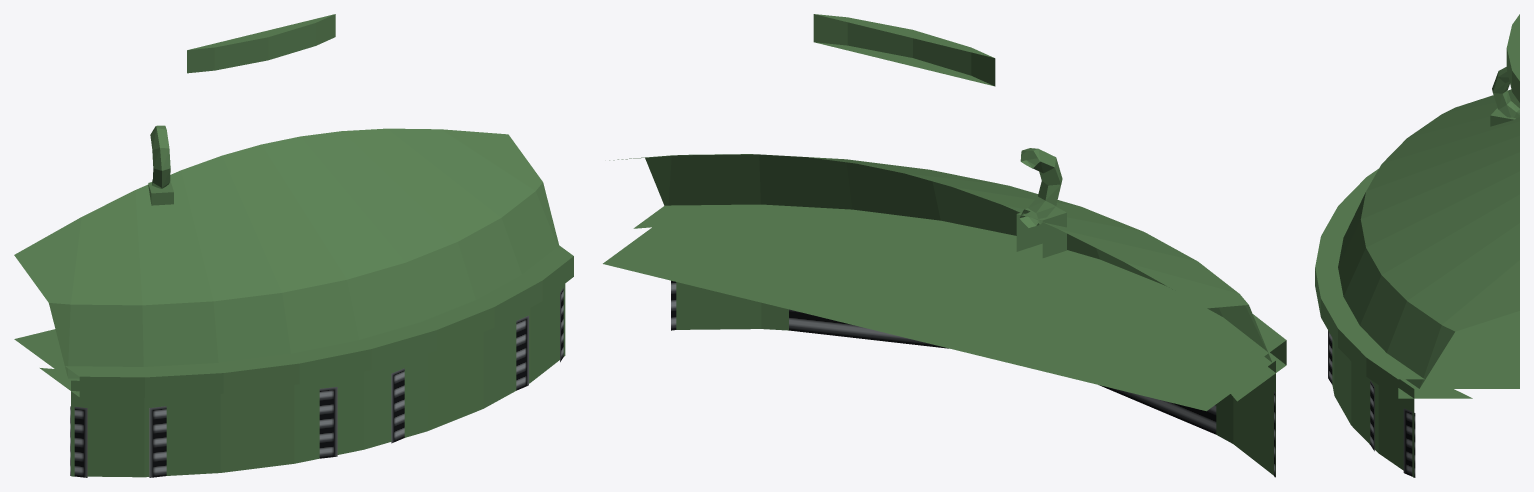
Rendered from cell_72.obj.
The picture shows the model from 3 angles, left to right: view 1: azimuth 30°, elevation 25°; view 2: azimuth 150°, elevation 25°; view 3: azimuth 270°, elevation 25°; orthographic projection. The views are drawn at different scales.
Bounding box in the file's own units: 1 × 0.6618 × 0.3858.
